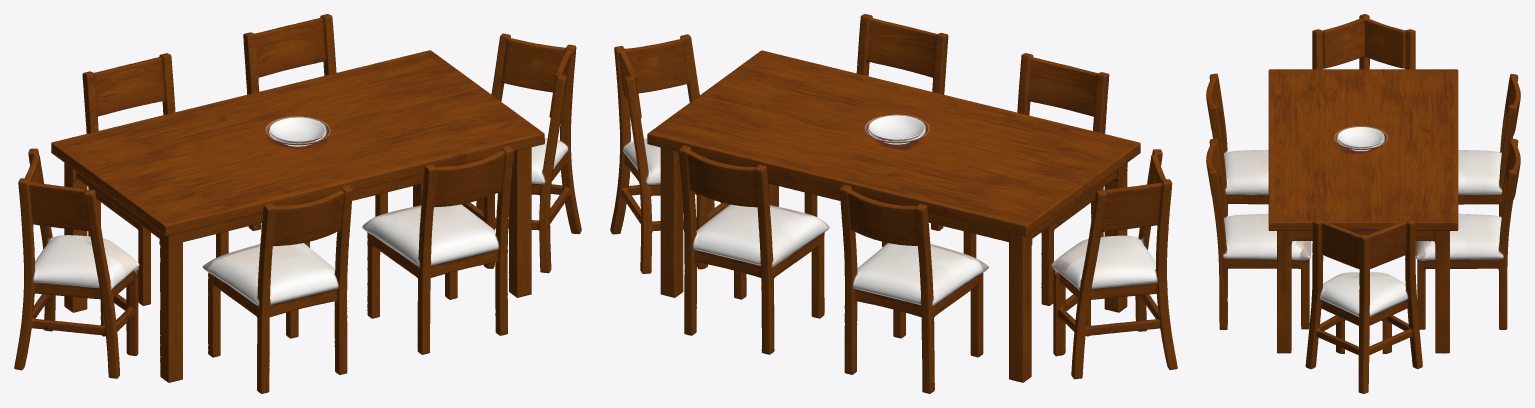
The model's file is dining_set_6.glb.
The picture shows the model from 3 angles, left to right: view 1: azimuth 30°, elevation 25°; view 2: azimuth 150°, elevation 25°; view 3: azimuth 270°, elevation 25°; orthographic projection. The views are drawn at different scales.
Bounding box in the file's own units: 1.9 × 0.6107 × 1.1.
1 material, 1 textured.
